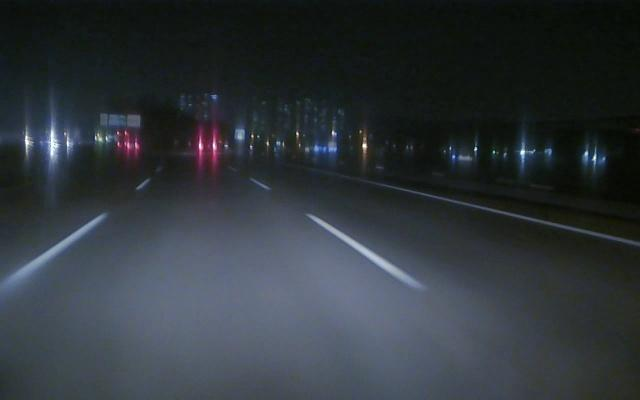lane: (244, 175, 432, 293), (371, 182, 638, 248), (3, 181, 147, 287)
